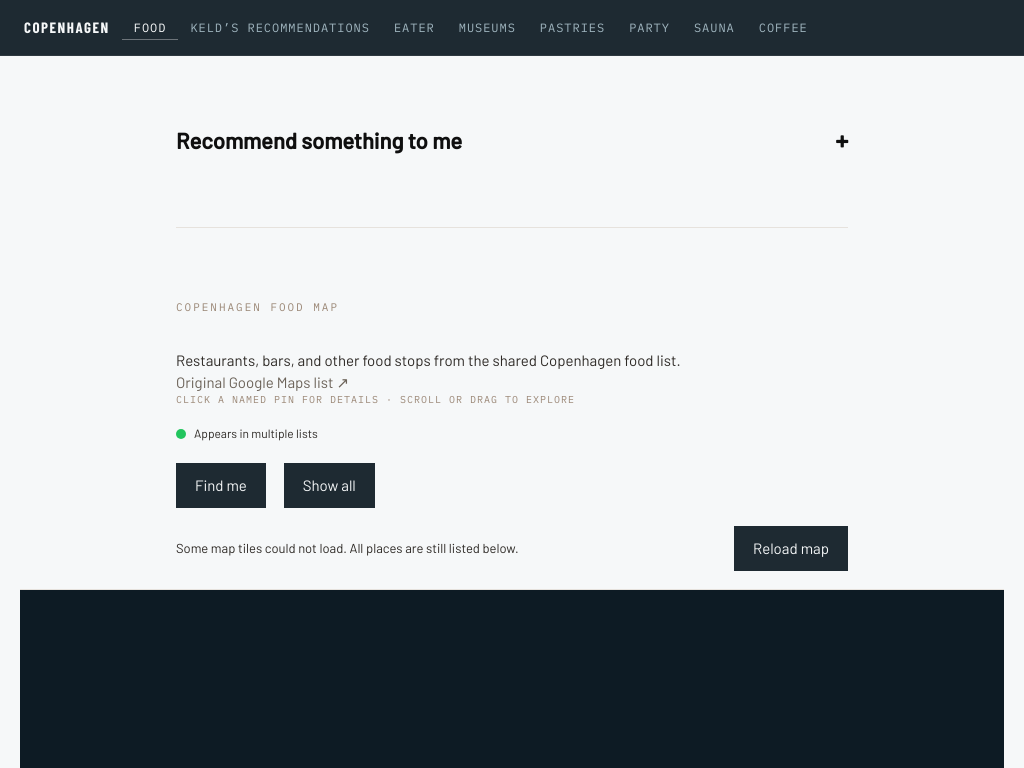
it: failed tiles offer a reload without resetting the location or rebuilding the map
Check: the button "Find me" is enabled, box [176,463,266,508]
Check: the text "Some map tiles could not load. All places are still listed below." is shown, box [176,540,519,556]
Click the button "Reload map" at (791, 548), box [734,526,848,571]
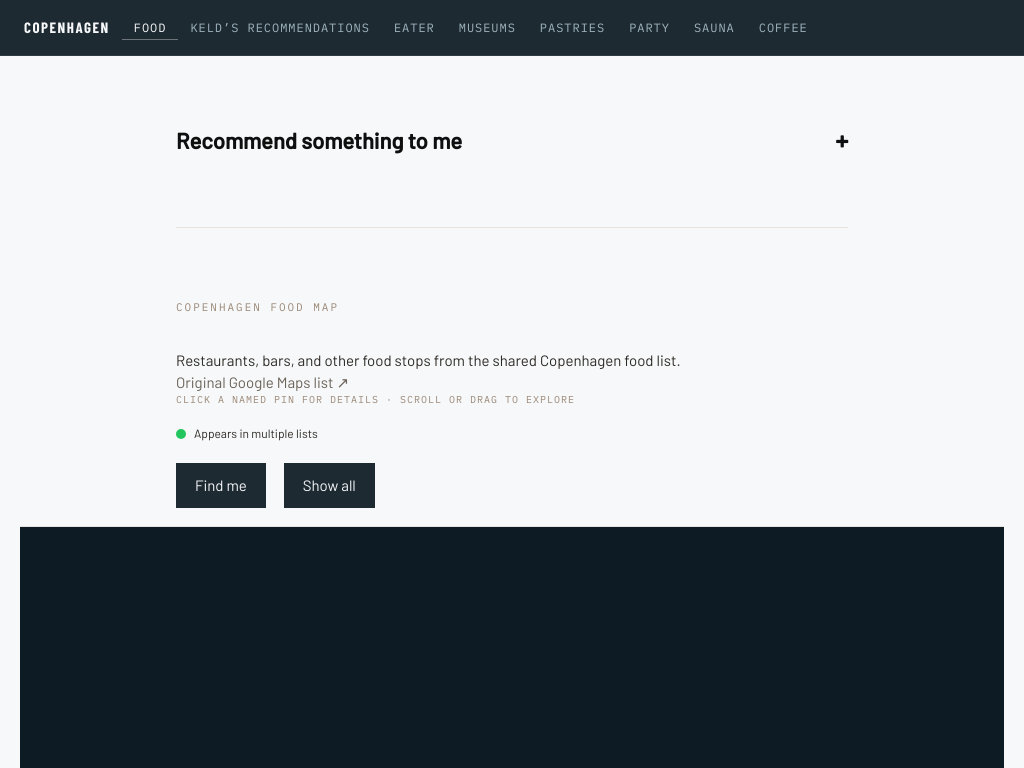
Check: the button "Reload map" is gone
